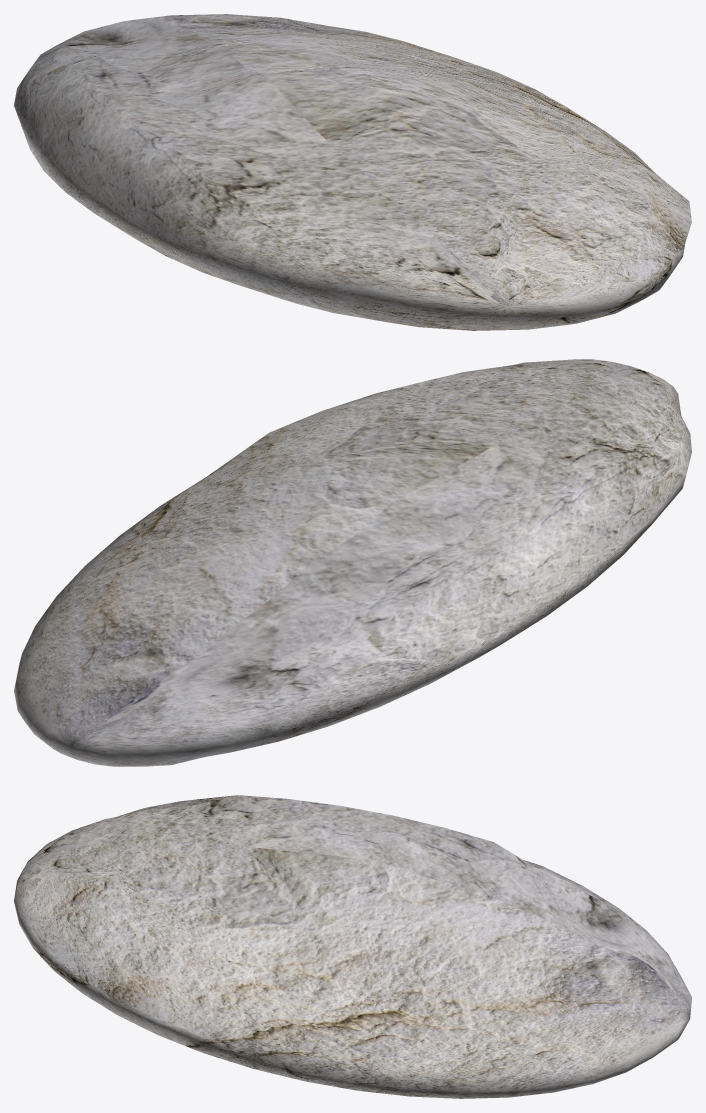
File: Pebble.fbx
3 renders of one model, top to bottom at view 1: azimuth 30°, elevation 25°; view 2: azimuth 150°, elevation 25°; view 3: azimuth 270°, elevation 25°, orthographic. The views are drawn at different scales.
Visible parts, largest first — view 1: Pebble; view 2: Pebble; view 3: Pebble.
Boxes of the visible parts, <box> form: Pebble: <box>14,14,691,330</box>; Pebble: <box>14,359,691,766</box>; Pebble: <box>14,795,691,1098</box>.
Bounding box in the file's own units: 40.42 × 15.82 × 63.02.
